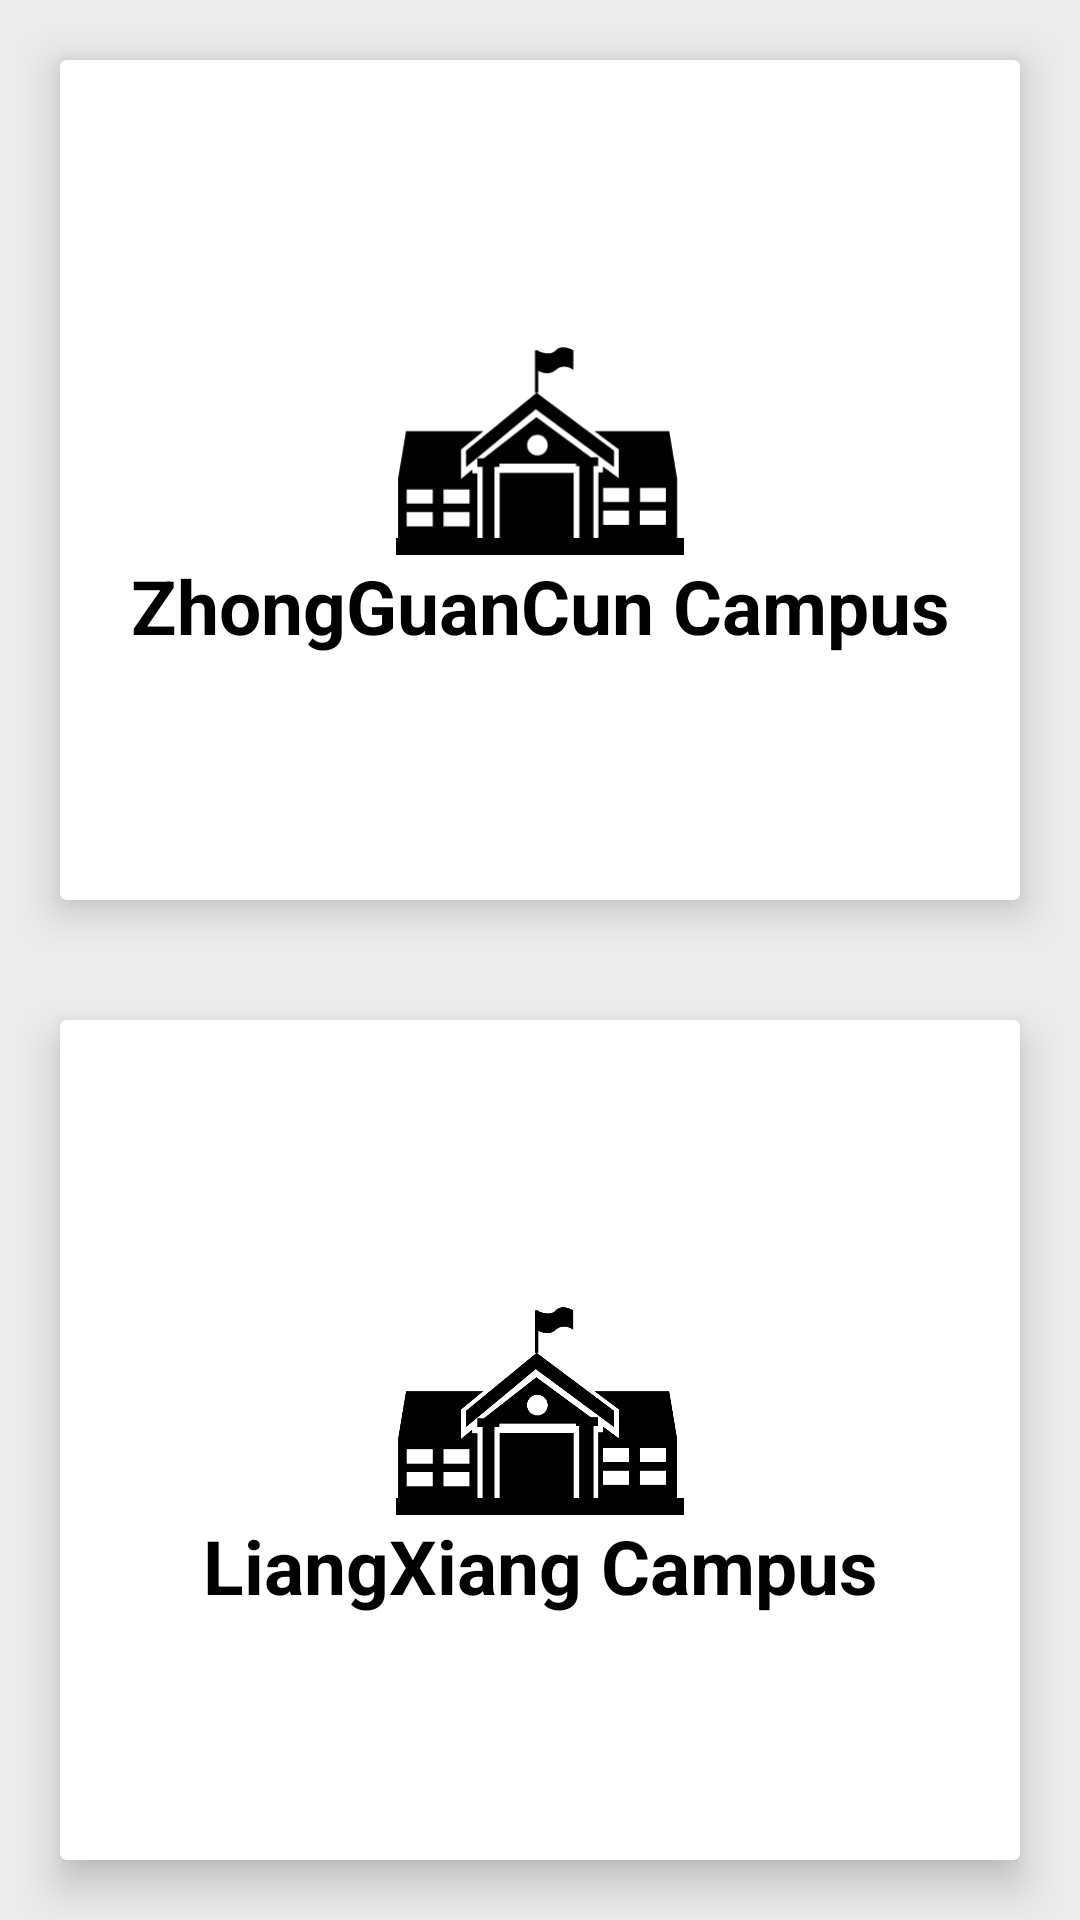

Where icons sit on this 1080x1920 app screen, as (x1, y1, x2, y2):
univ: (396, 347, 684, 555), (396, 1307, 684, 1515)
